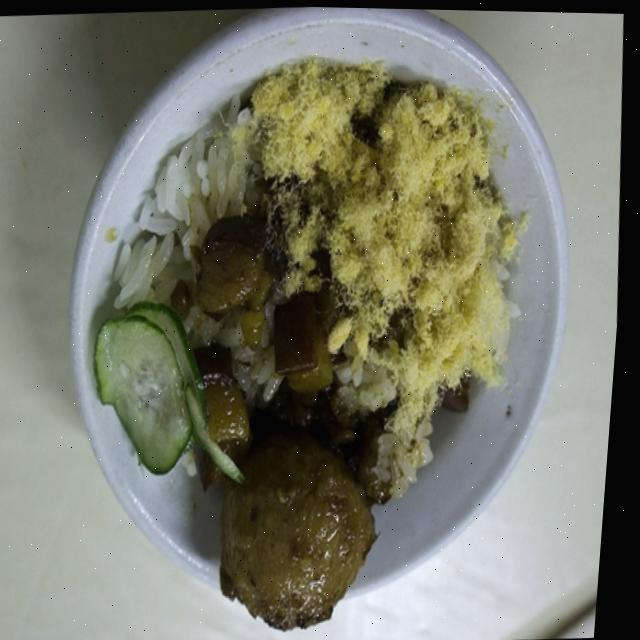米饭主食: (31, 1, 604, 640)
